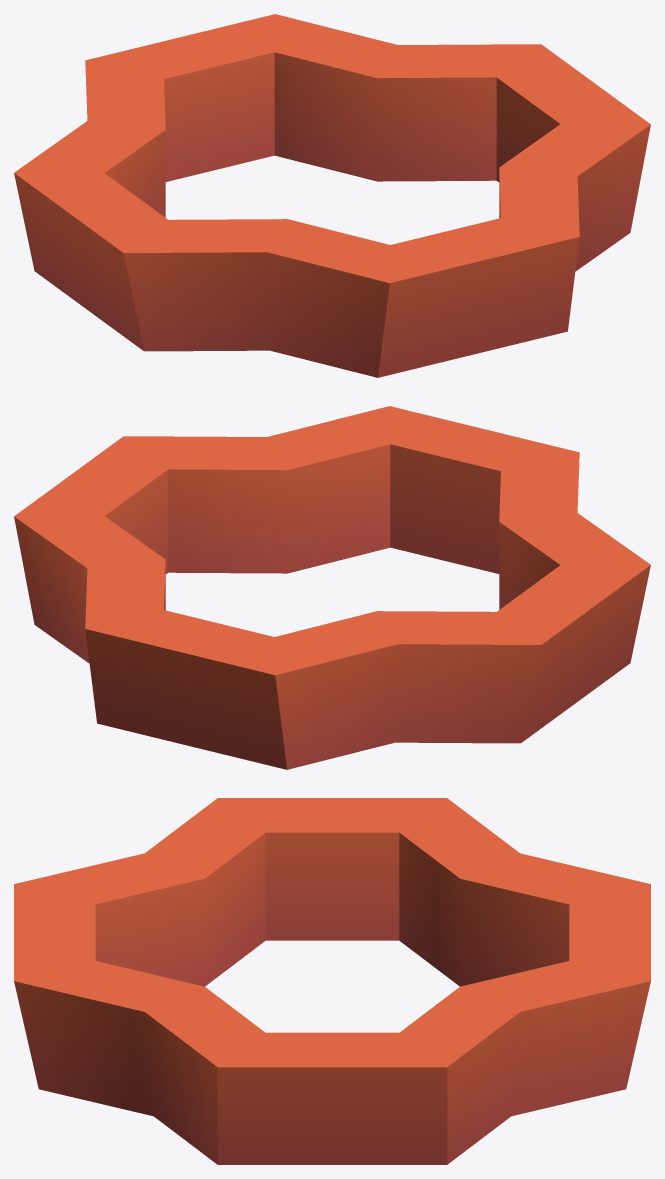
The model's file is kenney-food-paprika-slice.glb.
The picture shows the model from 3 angles, top to bottom: view 1: azimuth 30°, elevation 25°; view 2: azimuth 150°, elevation 25°; view 3: azimuth 270°, elevation 25°; orthographic projection. The views are drawn at different scales.
Visible parts, largest first — view 1: paprika-slice; view 2: paprika-slice; view 3: paprika-slice.
Boxes of the visible parts, x1,y1,x2,y2 form: paprika-slice: (14, 14, 650, 377); paprika-slice: (14, 406, 650, 769); paprika-slice: (14, 798, 650, 1164).
Size of the model in its own units: 0.1602 by 0.03 by 0.1602.
1 material, 1 textured.
